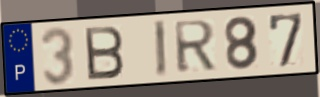3: (40, 23, 78, 88)
7: (266, 10, 304, 69)
8: (222, 14, 260, 72)
B: (82, 24, 127, 82)
I: (151, 18, 169, 80)
R: (172, 18, 219, 76)
